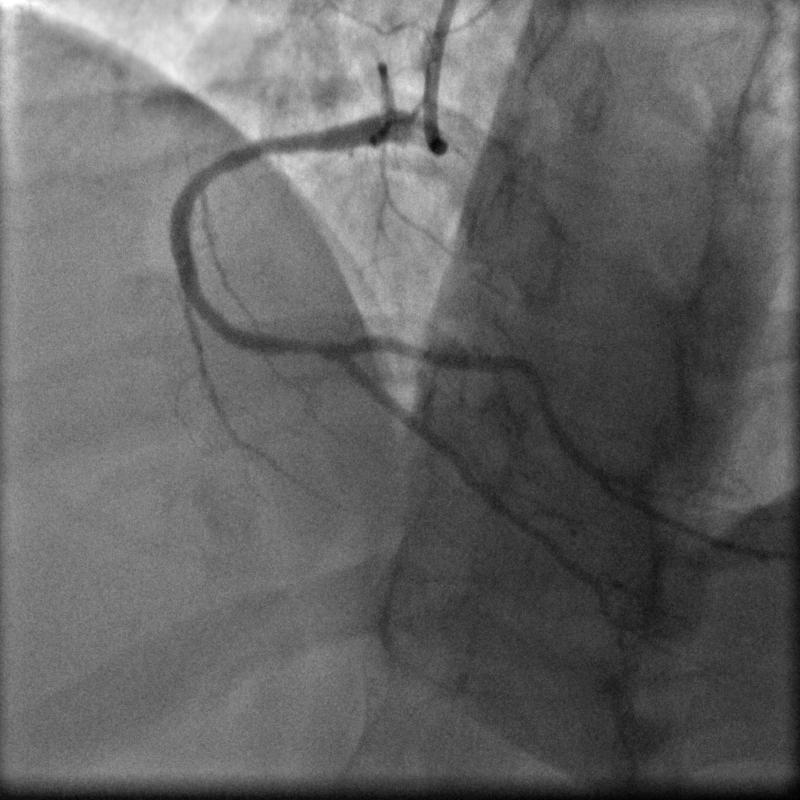Stenosis: (287, 332, 329, 360)
